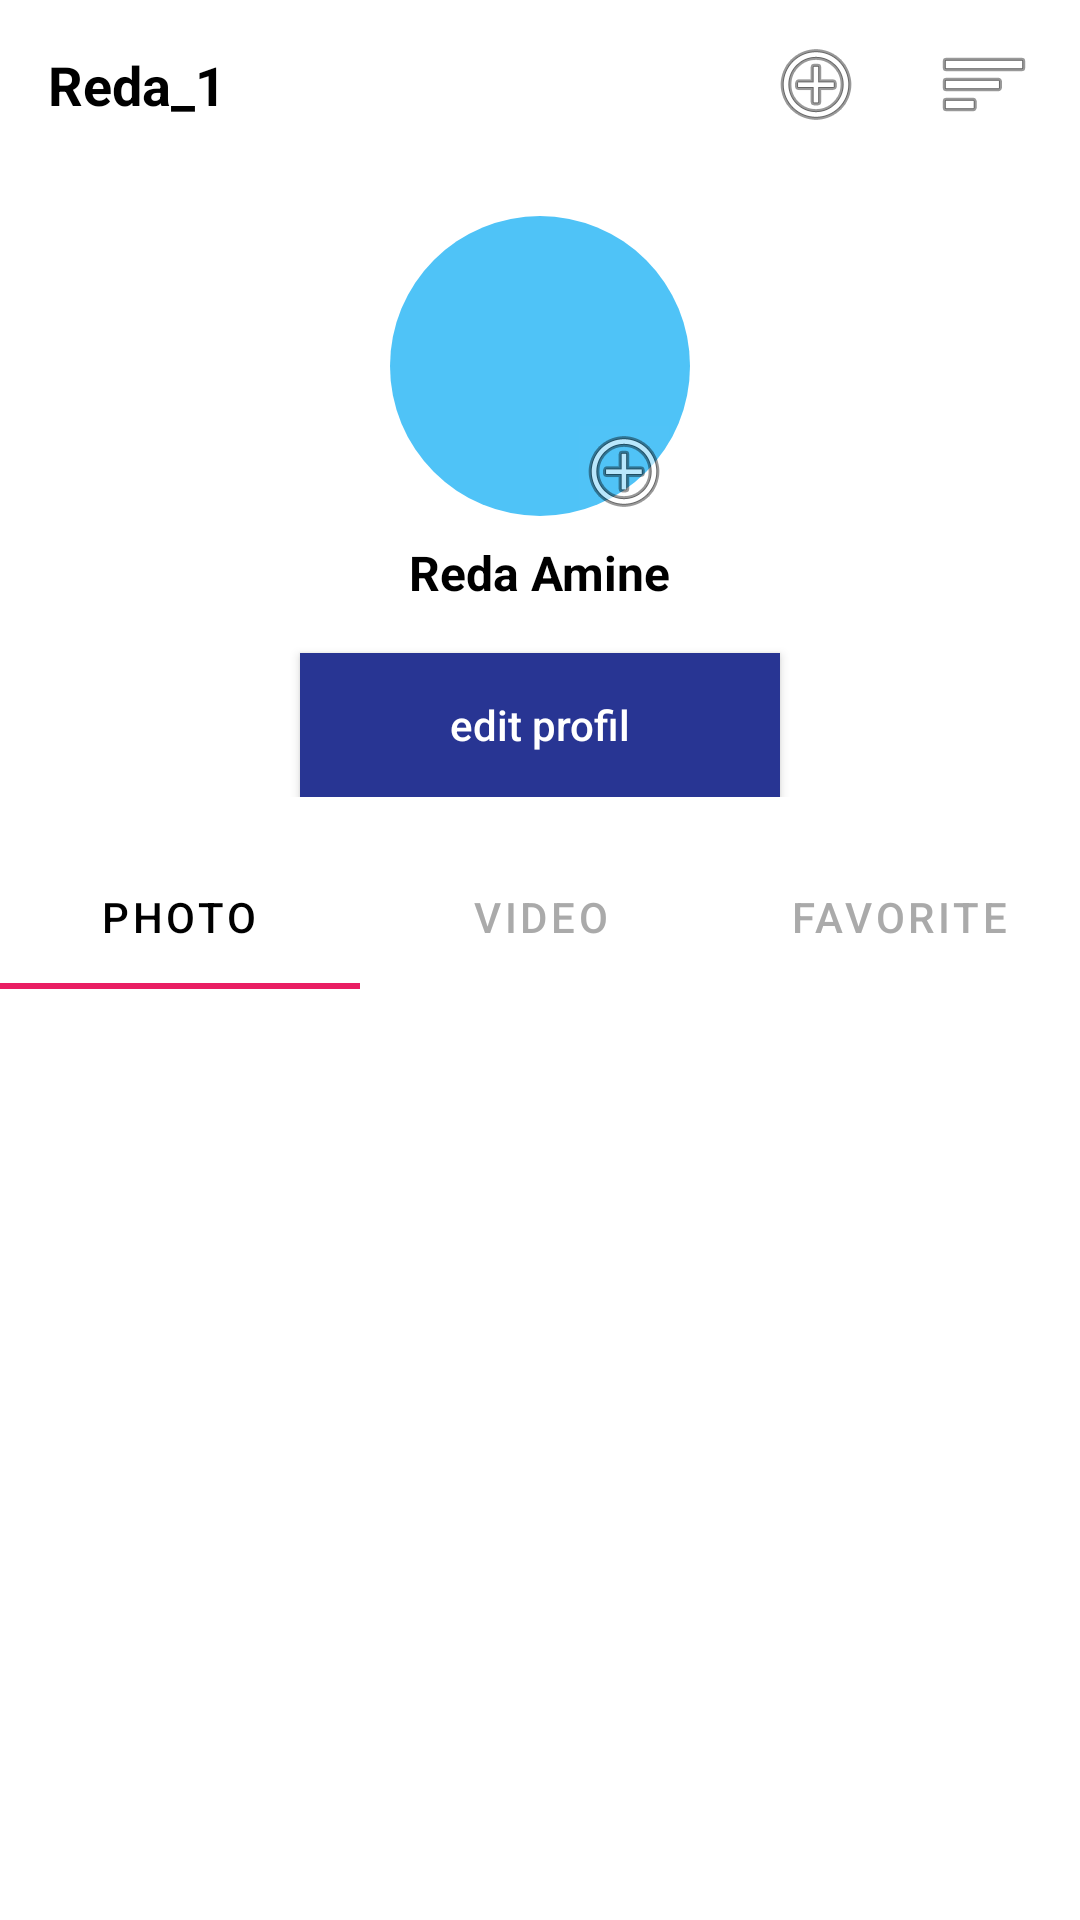

Where to tap for icons on this 1080px x 1920px app screen, as point (x, y):
Add: point (816, 84)
Add Photo: point (624, 471)
Menu: point (984, 84)
